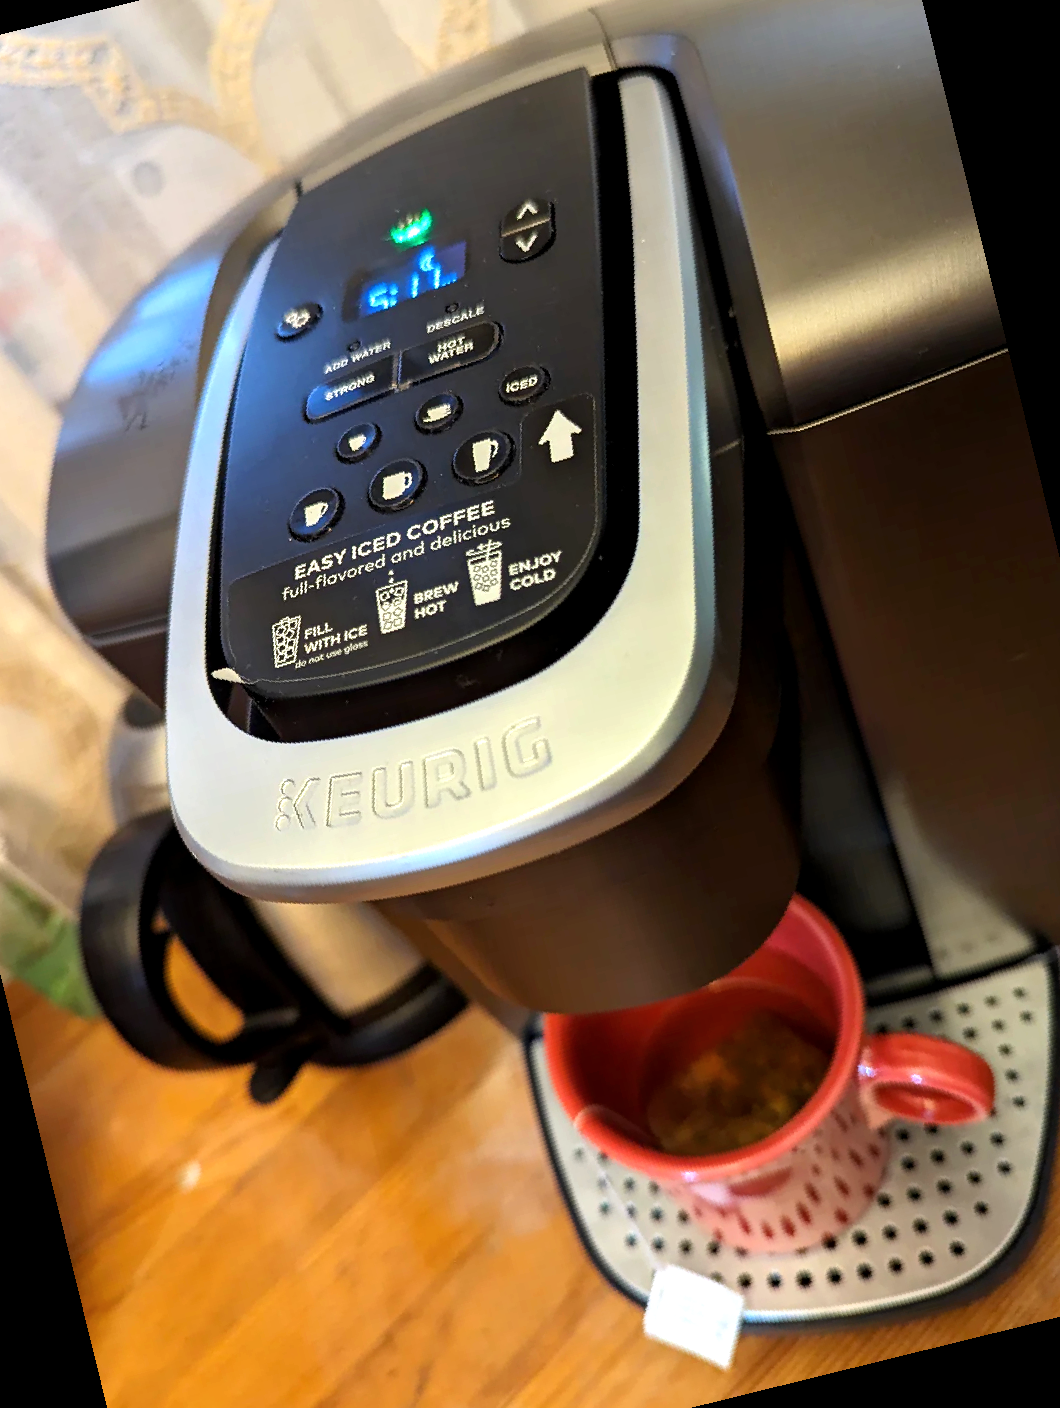10oz: (355, 444, 440, 522)
12oz: (440, 419, 524, 495)
4oz: (321, 413, 390, 471)
6oz: (403, 383, 472, 441)
8oz: (273, 476, 357, 554)
add_water: (307, 321, 399, 382)
descale: (403, 286, 494, 347)
hot: (397, 321, 501, 387)
iced: (482, 344, 567, 421)
power: (384, 204, 441, 248)
strong: (296, 356, 401, 423)
